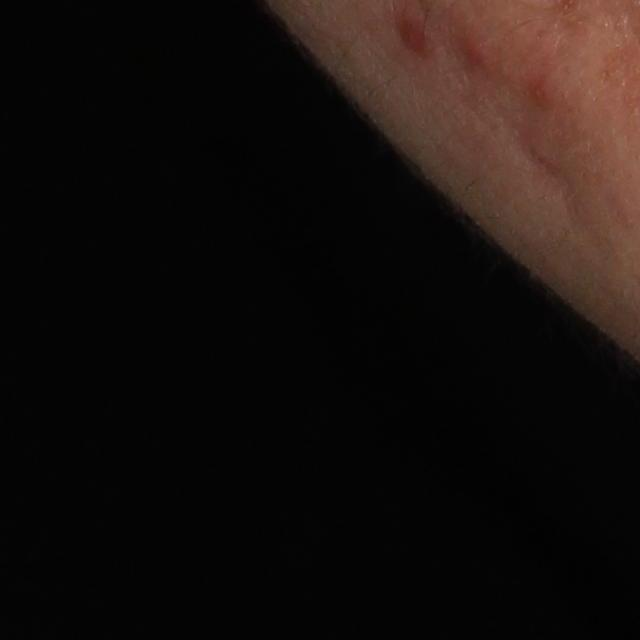papule: (445, 24, 498, 79), (514, 76, 568, 117), (398, 9, 441, 54)
